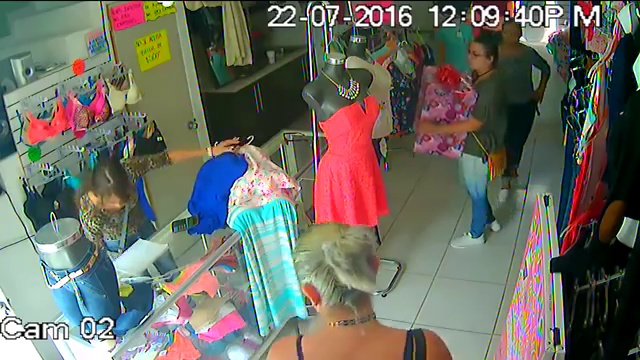face: (465, 45, 488, 69), (501, 26, 522, 44)
